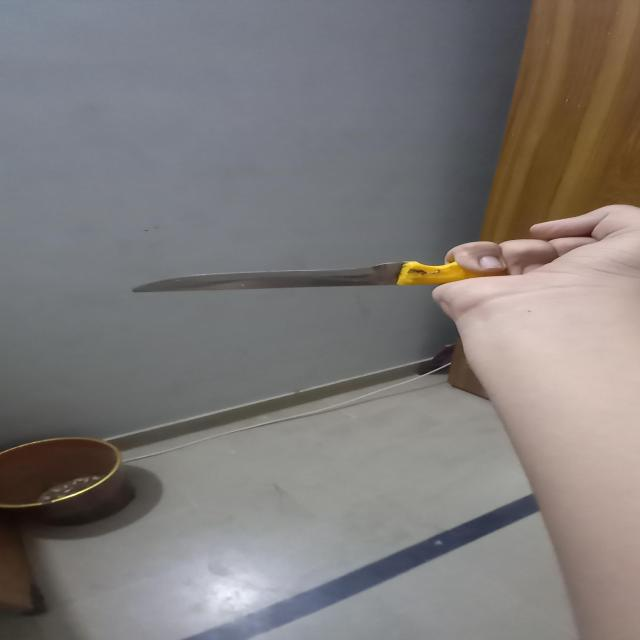Knife: (130, 258, 503, 294)
Person: (433, 204, 640, 632)
